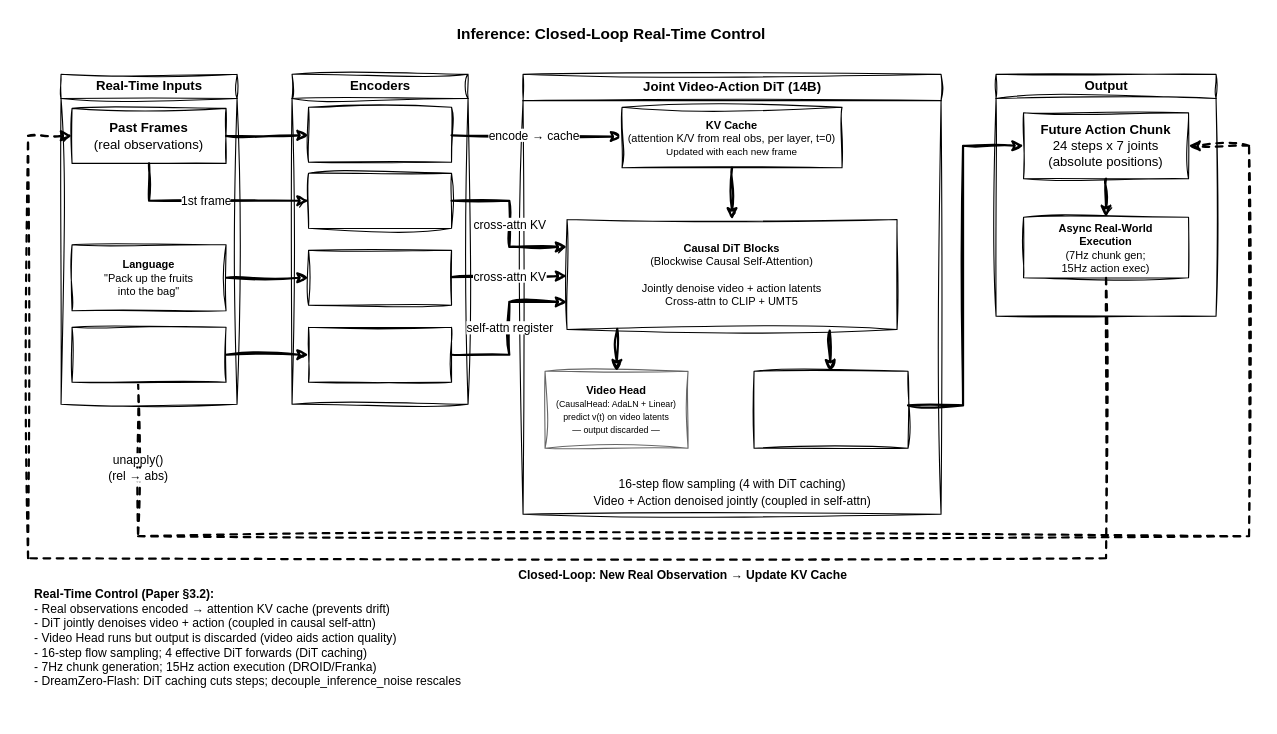
Image size: 1277x734. Some labels were removed from this diagram. Here are the shapes that lost their labels. From the top down, the centre of each, then its label:
At (379,134): "VAE Encoder (Wan2.1)".
At (379,200): "CLIP Image Encoder (ViT-H/14)".
At (379,277): "UMT5-XXL (text → 512 tokens)".
At (148,354): "Proprioception (current joints)".
At (379,354): "State Encoder (Proprioception MLP)".
At (830,409): "Action Decoder (CategorySpecificMLP) predict v(t) on action tokens".
